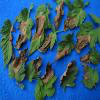Tomato leaf late blight: (29, 4, 49, 55), (33, 63, 57, 100), (14, 4, 33, 50), (8, 47, 29, 88), (63, 1, 89, 31), (0, 18, 15, 67), (59, 59, 79, 90), (54, 33, 75, 60), (23, 56, 45, 81), (81, 62, 99, 91), (38, 31, 60, 54), (79, 50, 100, 64)
